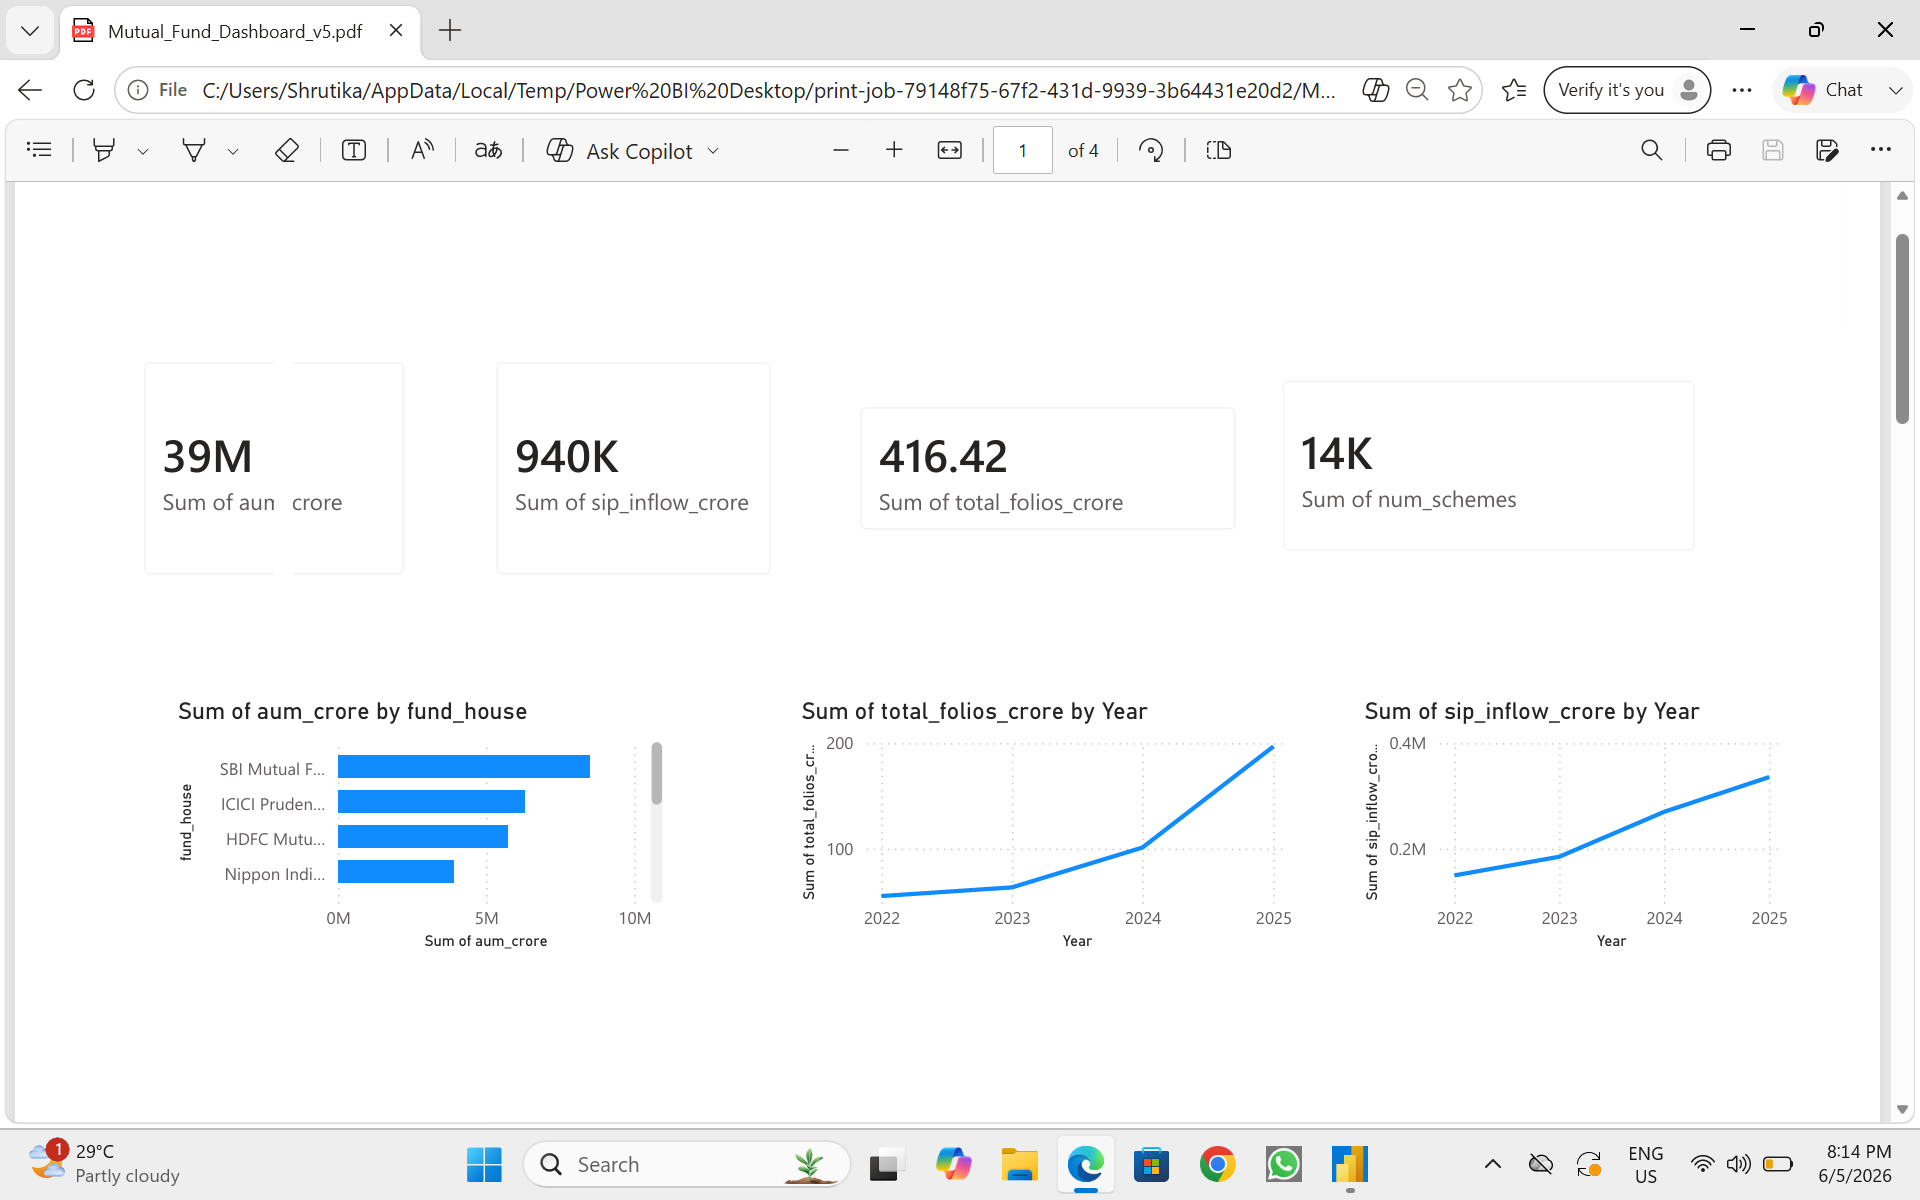

The page's visual inventory and layout, read from the dashboard file:
{"tool":"powerbi","page":{"name":"Page 1","canvas":[1280,720],"ordinal":0},"visuals":[{"type":"cardVisual","fields":{"Data":["Sum(03_aum_by_fund_house.aum_crore)"]},"box":[0,0,173.9,185.2],"z":0},{"type":"cardVisual","fields":{"Data":["Sum(04_monthly_sip_inflows.sip_inflow_crore)"]},"box":[160.6,73.7,13.2,296.7],"z":1000},{"type":"cardVisual","fields":{"Data":["Sum(06_industry_folio_count.total_folios_crore)"]},"box":[347.7,32.1,160.6,120.9],"z":2000},{"type":"cardVisual","fields":{"Data":["Sum(03_aum_by_fund_house.num_schemes)"]},"box":[546.1,15.1,143.6,155],"z":3000},{"type":"cardVisual","fields":{"Data":["Sum(04_monthly_sip_inflows.sip_inflow_crore)"]},"box":[173.9,0,173.9,185.2],"z":4000},{"type":"barChart","fields":{"Category":["03_aum_by_fund_house.fund_house"],"Y":["Sum(03_aum_by_fund_house.aum_crore)"]},"box":[32.1,185.2,173.9,185.2],"z":5000},{"type":"lineChart","fields":{"Category":["04_monthly_sip_inflows.month.Variation.Date Hierarchy.Year","04_monthly_sip_inflows.month.Variation.Date Hierarchy.Quarter","04_monthly_sip_inflows.month.Variation.Date Hierarchy.Month","04_monthly_sip_inflows.month.Variation.Date Hierarchy.Day"],"Y":["Sum(04_monthly_sip_inflows.sip_inflow_crore)"]},"box":[602.8,185.2,173.9,185.2],"z":6000},{"type":"lineChart","fields":{"Category":["06_industry_folio_count.month.Variation.Date Hierarchy.Year","06_industry_folio_count.month.Variation.Date Hierarchy.Quarter","06_industry_folio_count.month.Variation.Date Hierarchy.Month","06_industry_folio_count.month.Variation.Date Hierarchy.Day"],"Y":["Sum(06_industry_folio_count.total_folios_crore)"]},"box":[315.6,185.2,173.9,185.2],"z":7000}]}

Visuals, with their boxes on the page's 1280x720 design canvas (x1, y1, x2, y2). These are canvas units, not pixel positions in the 1920x1200 screenshot, which may show the page scaled, cropped or inside an application window:
cardVisual - Sum(03_aum_by_fund_house.aum_crore): locate(0, 0, 174, 185)
cardVisual - Sum(04_monthly_sip_inflows.sip_inflow_crore): locate(161, 74, 174, 370)
cardVisual - Sum(06_industry_folio_count.total_folios_crore): locate(348, 32, 508, 153)
cardVisual - Sum(03_aum_by_fund_house.num_schemes): locate(546, 15, 690, 170)
cardVisual - Sum(04_monthly_sip_inflows.sip_inflow_crore): locate(174, 0, 348, 185)
barChart - 03_aum_by_fund_house.fund_house x Sum(03_aum_by_fund_house.aum_crore): locate(32, 185, 206, 370)
lineChart - 04_monthly_sip_inflows.month.Variation.Date Hierarchy.Year x 04_monthly_sip_inflows.month.Variation.Date Hierarchy.Quarter: locate(603, 185, 777, 370)
lineChart - 06_industry_folio_count.month.Variation.Date Hierarchy.Year x 06_industry_folio_count.month.Variation.Date Hierarchy.Quarter: locate(316, 185, 490, 370)
